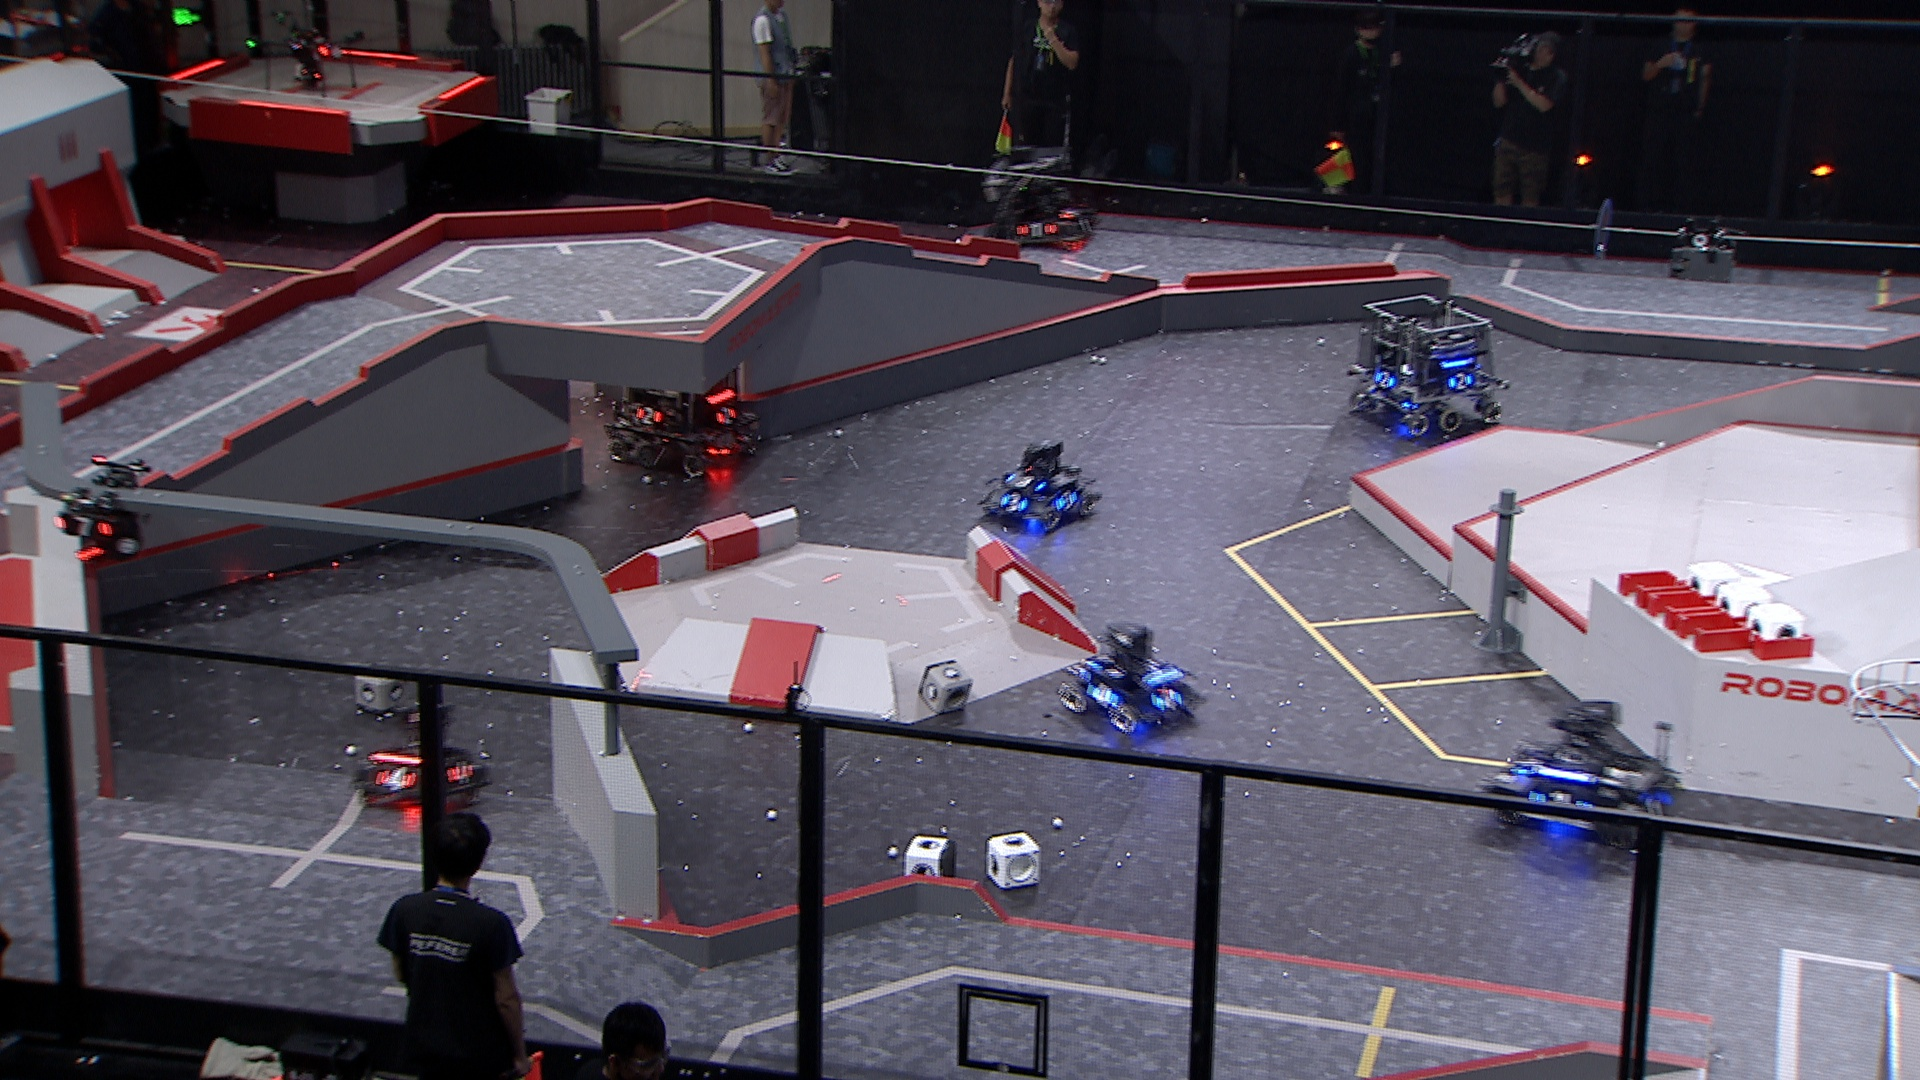armor: (54, 512, 117, 542), (1528, 789, 1589, 820), (371, 764, 422, 793), (1004, 467, 1048, 493), (1638, 789, 1673, 822), (1510, 746, 1542, 779), (1013, 219, 1058, 239), (1087, 679, 1116, 708), (1153, 684, 1182, 713), (1051, 484, 1079, 513), (442, 764, 475, 787), (633, 404, 665, 427), (998, 491, 1029, 514), (1076, 210, 1098, 240), (713, 404, 740, 427), (1447, 371, 1474, 392), (1058, 204, 1083, 222), (1375, 371, 1396, 390)
car: (1485, 694, 1683, 847), (1352, 289, 1501, 439), (605, 356, 766, 479), (1051, 622, 1207, 733), (351, 703, 495, 808), (978, 142, 1102, 249), (977, 436, 1102, 531)
watcher: (46, 455, 152, 567)
